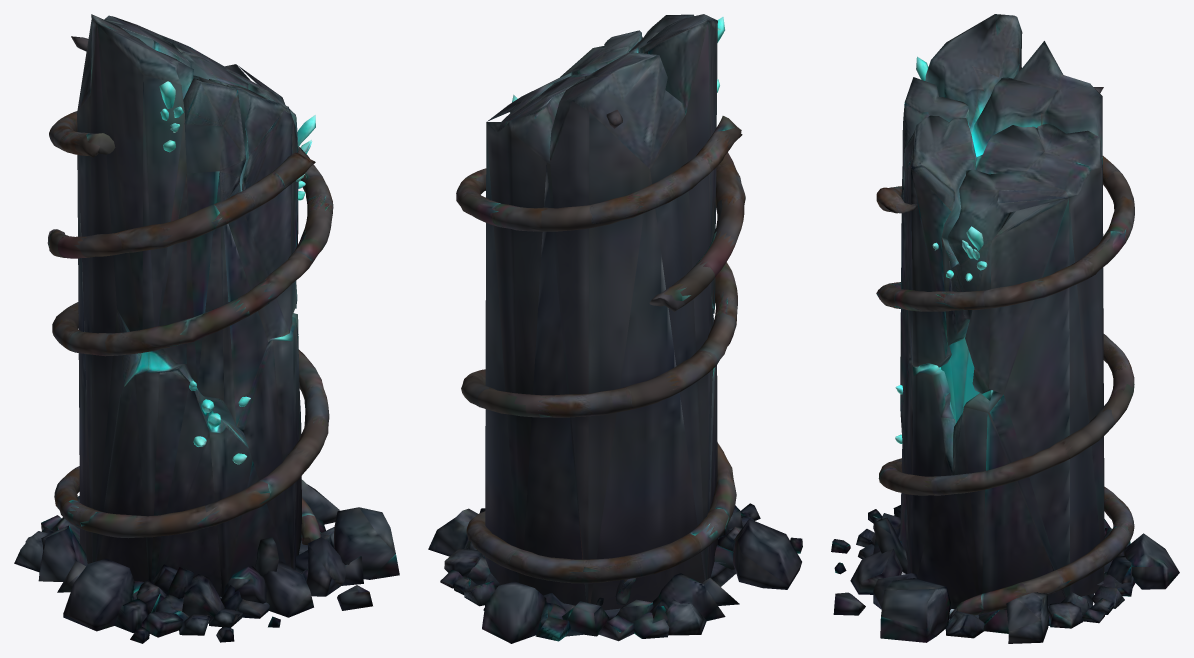
File: pillar_stump_b.glb
The picture shows the model from 3 angles, left to right: view 1: azimuth 30°, elevation 25°; view 2: azimuth 150°, elevation 25°; view 3: azimuth 270°, elevation 25°; orthographic projection. The views are drawn at different scales.
Visible parts, largest first — view 1: geometry_0; view 2: geometry_0; view 3: geometry_0.
Boxes of the visible parts, bbox=[...] form: geometry_0: bbox=[14, 14, 399, 643]; geometry_0: bbox=[428, 14, 802, 643]; geometry_0: bbox=[831, 14, 1179, 643].
Bounding box in the file's own units: 0.5454 × 0.9512 × 0.5811.
Materials: 1 (1 with a texture image).
